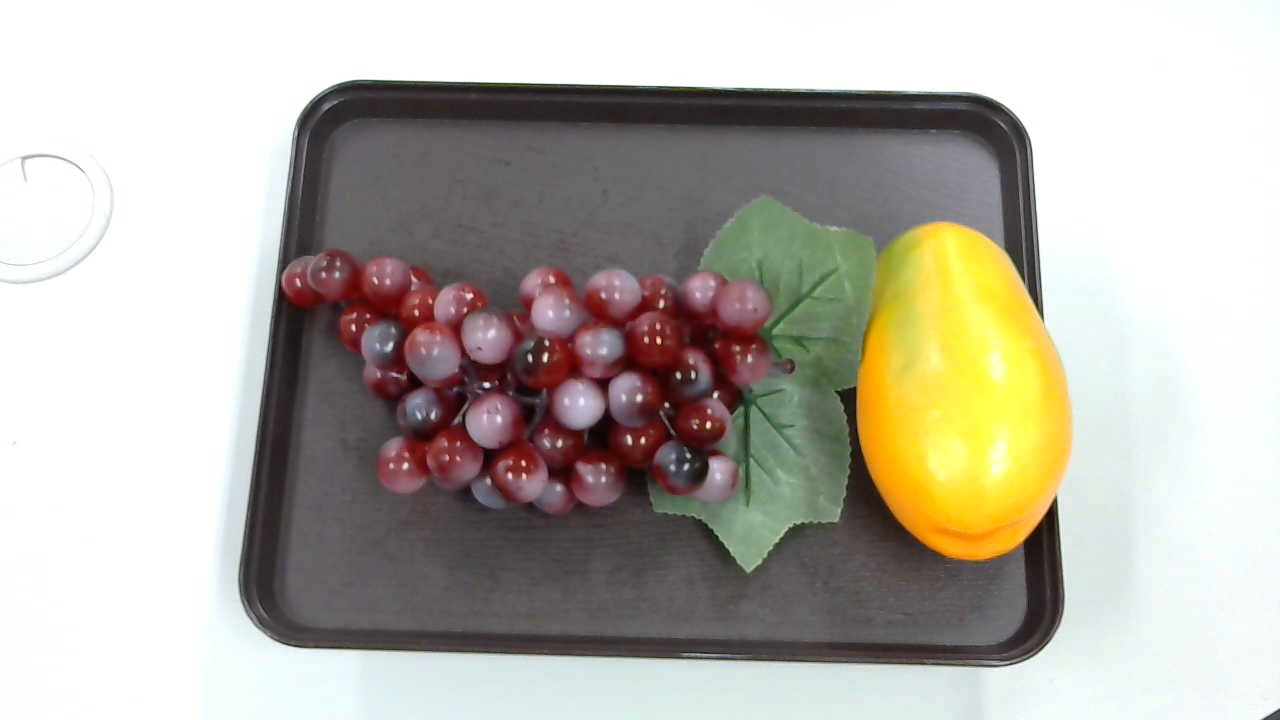grape: (281, 195, 868, 574)
papya: (852, 219, 1071, 563)
